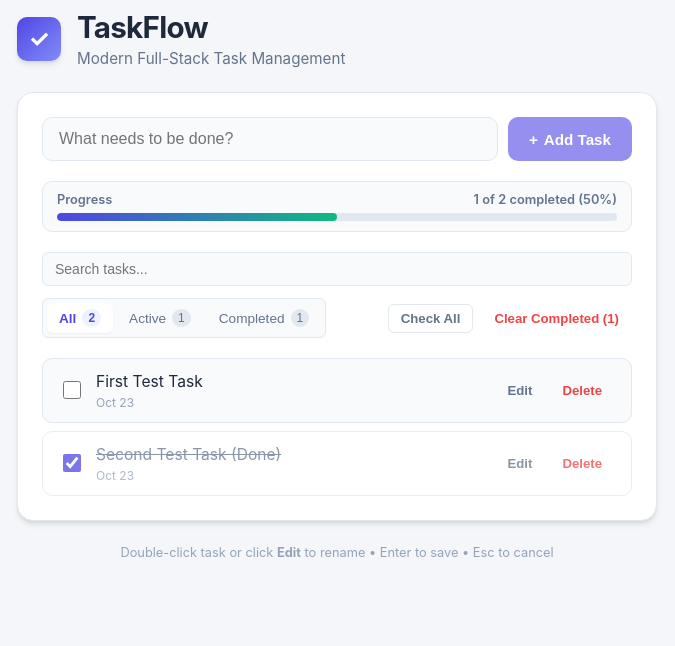
Test: TaskFlow App Component › adds a new todo on form submit
Check: the text "First Test Task" is shown, box top-left (96, 372), bottom-right (203, 391)
Step 1. Type "Newly Created Task" into the field with placeholder "What needs to be done?" → (270, 139), box top-left (42, 117), bottom-right (498, 161)
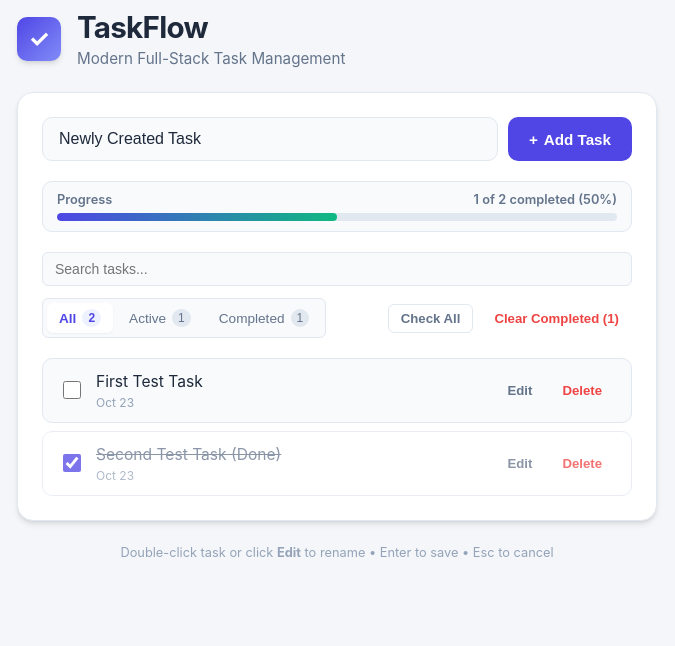
Step 2. Click the button named "Add task to list" → (570, 139), box top-left (508, 117), bottom-right (632, 161)
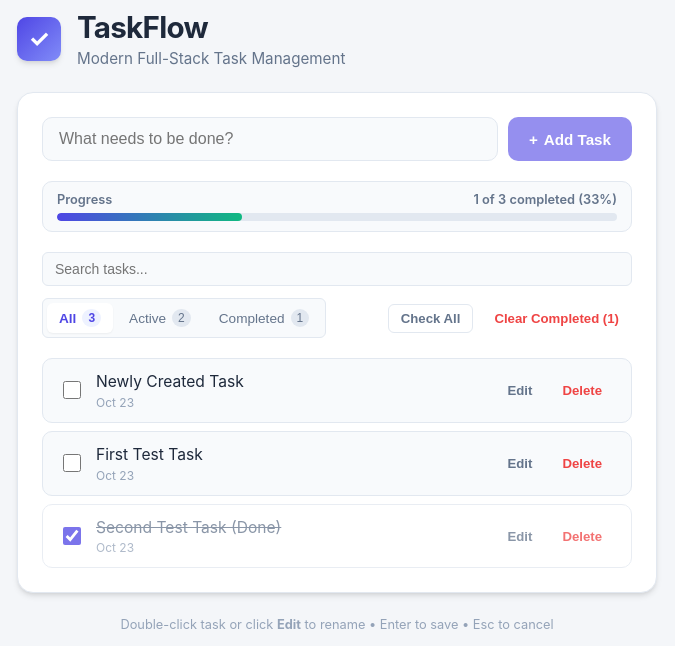
Check: the text "Newly Created Task" is shown, box top-left (96, 372), bottom-right (244, 391)
